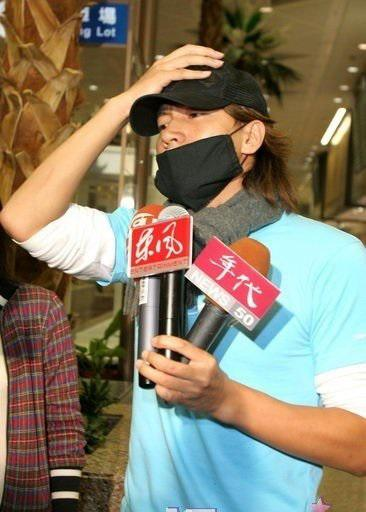WRONG: (149, 100, 242, 193)
